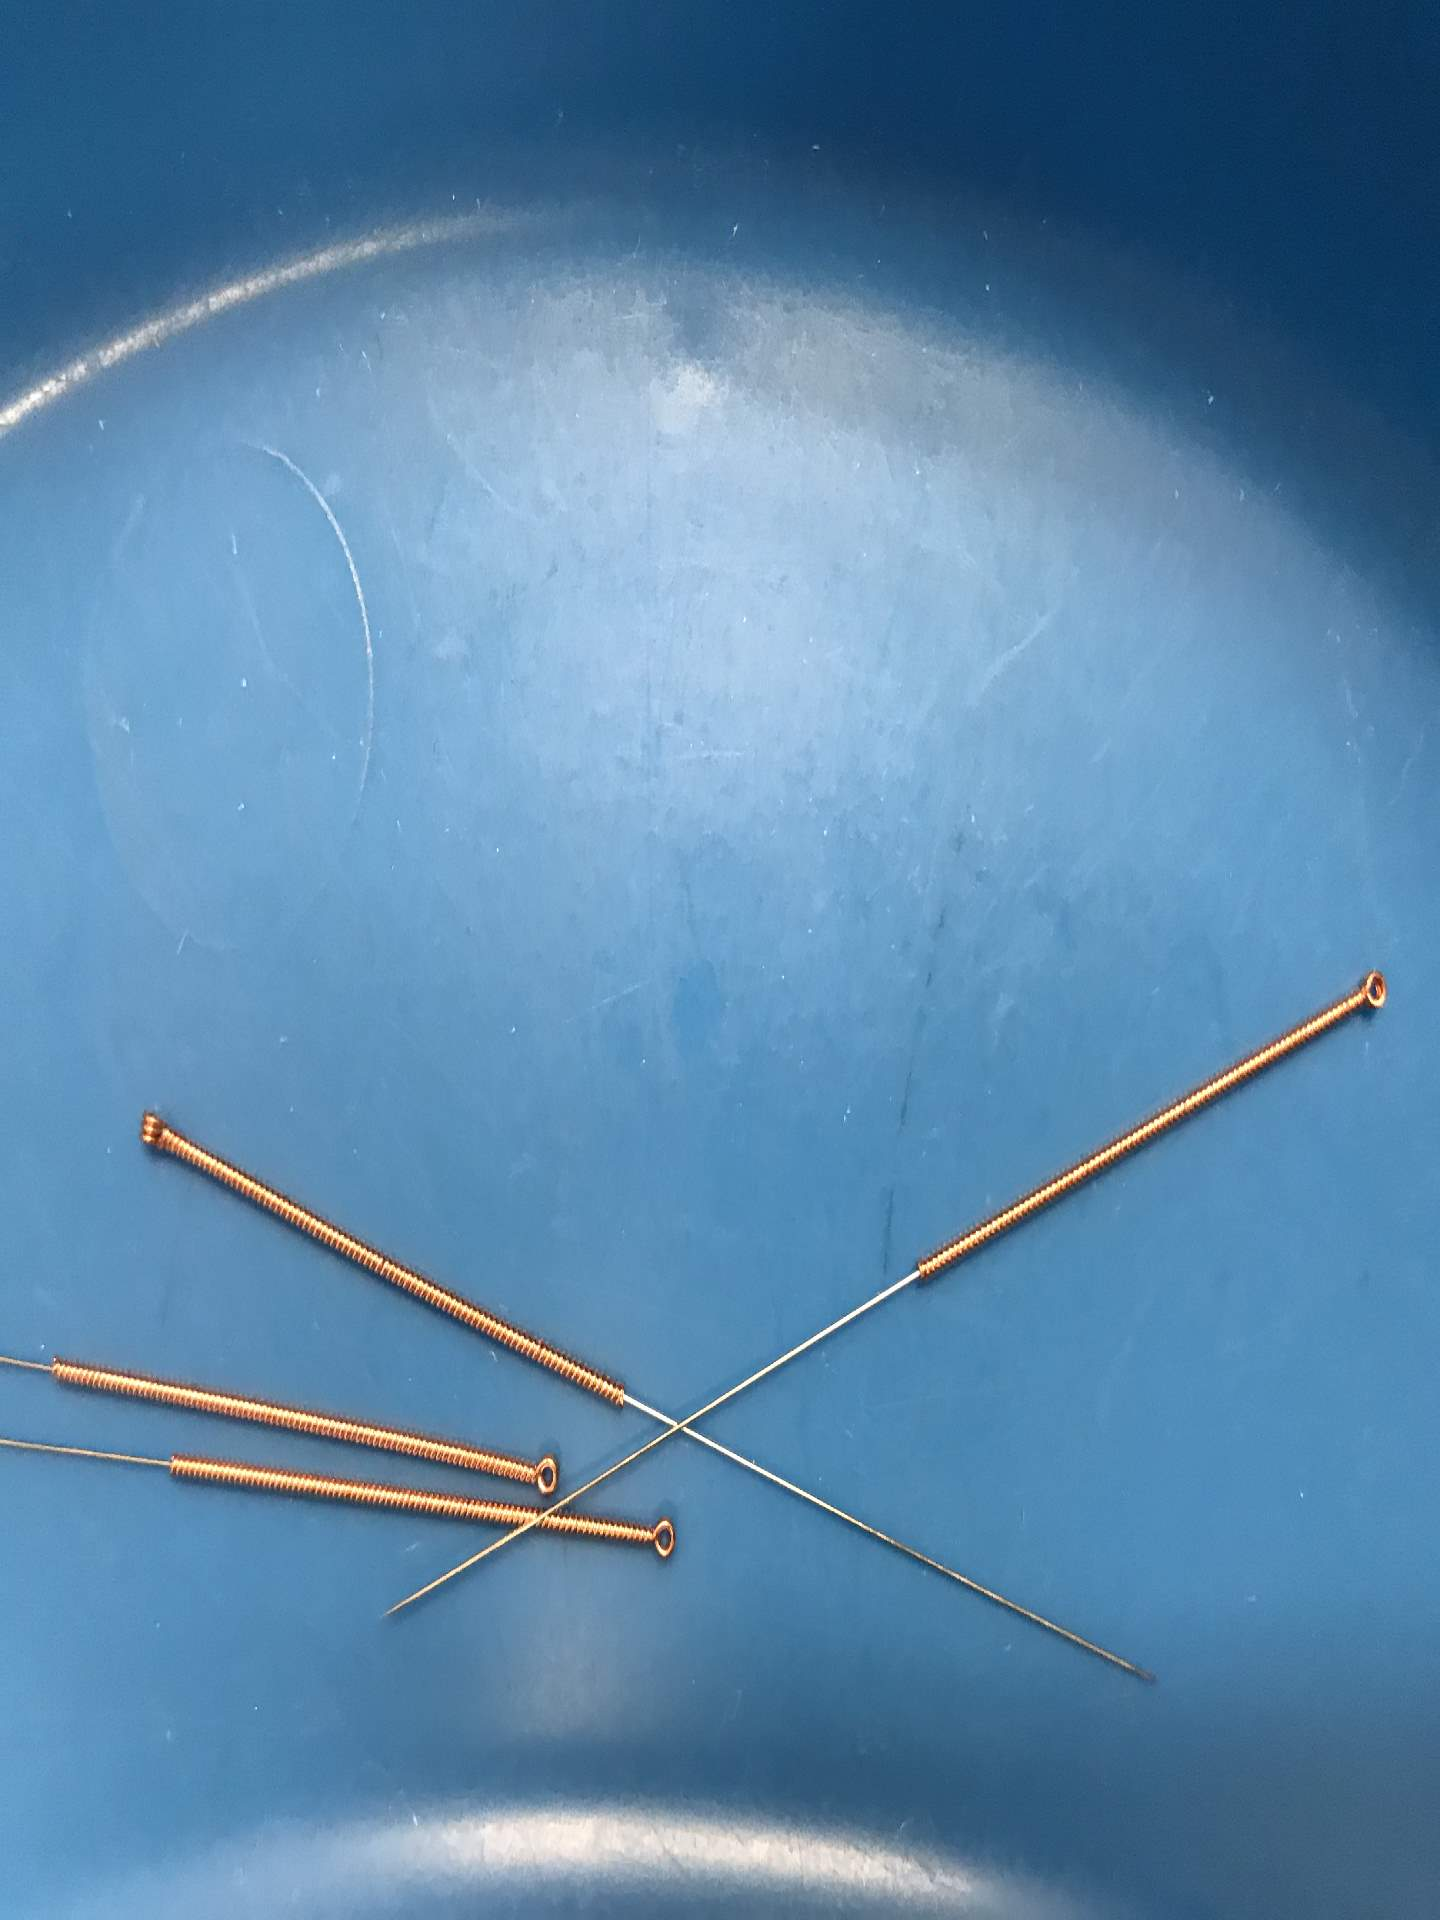needle: (1328, 954, 1404, 1027), (118, 1098, 185, 1169), (628, 1500, 691, 1569), (508, 1439, 566, 1504)
